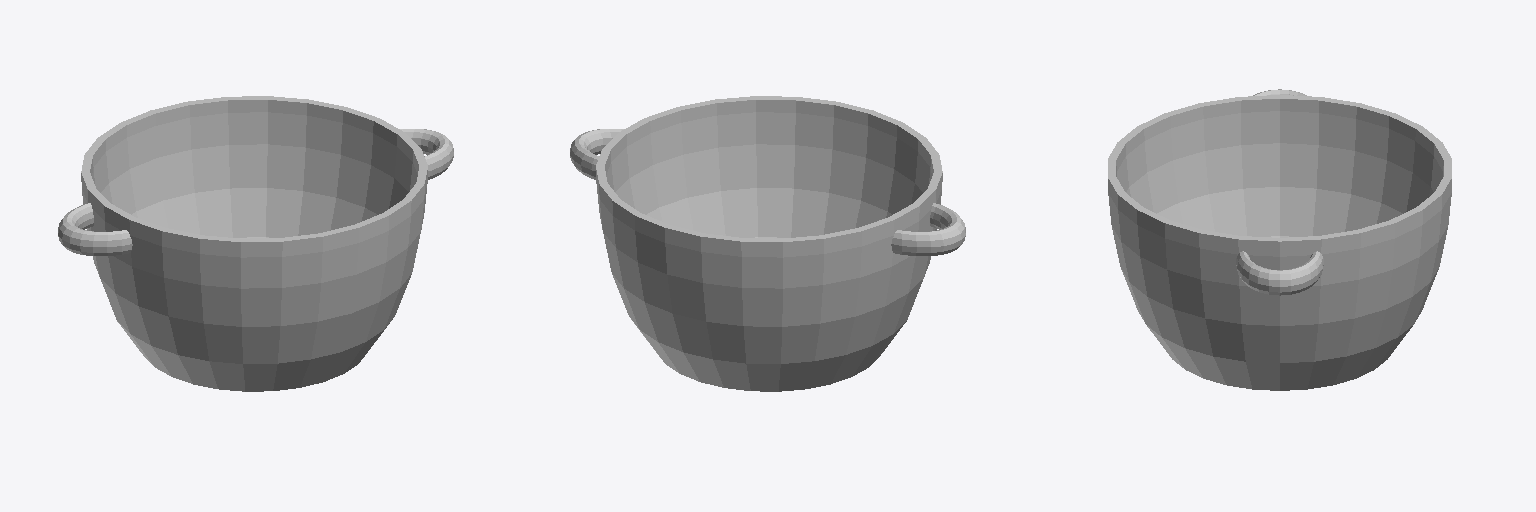
File: Bowl.obj
3 renders of one model, left to right at view 1: azimuth 30°, elevation 25°; view 2: azimuth 150°, elevation 25°; view 3: azimuth 270°, elevation 25°, orthographic.
Visible parts, largest first — view 1: Cylinder01; view 2: Cylinder01; view 3: Cylinder01.
Part boxes in pixels (bbox=[...]): Cylinder01: bbox=[58, 96, 453, 391]; Cylinder01: bbox=[570, 96, 965, 391]; Cylinder01: bbox=[1108, 89, 1451, 390].
Bounding box in the file's own units: 87.14 × 37.4 × 67.06.